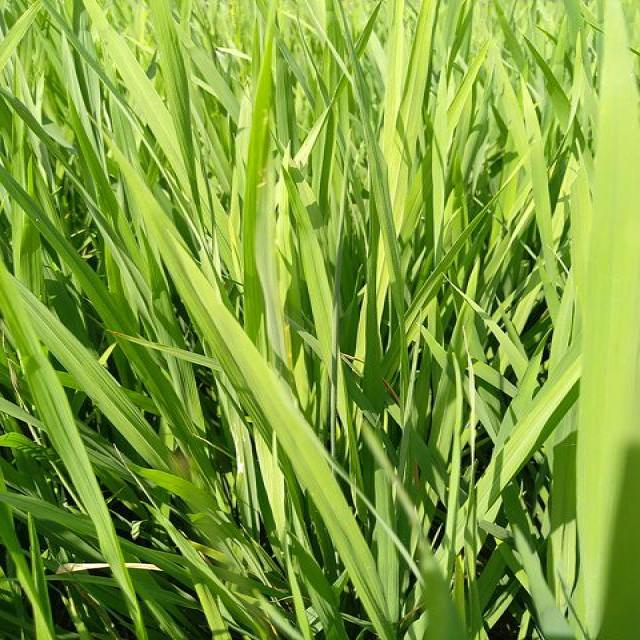Rice: (578, 4, 640, 640), (35, 426, 145, 638), (112, 155, 227, 298), (188, 300, 309, 418), (286, 157, 338, 423), (238, 39, 278, 360), (385, 2, 434, 253), (0, 272, 78, 427), (257, 420, 362, 534), (157, 0, 203, 228), (519, 73, 559, 318), (349, 467, 399, 640), (539, 420, 572, 619), (72, 340, 146, 426)
